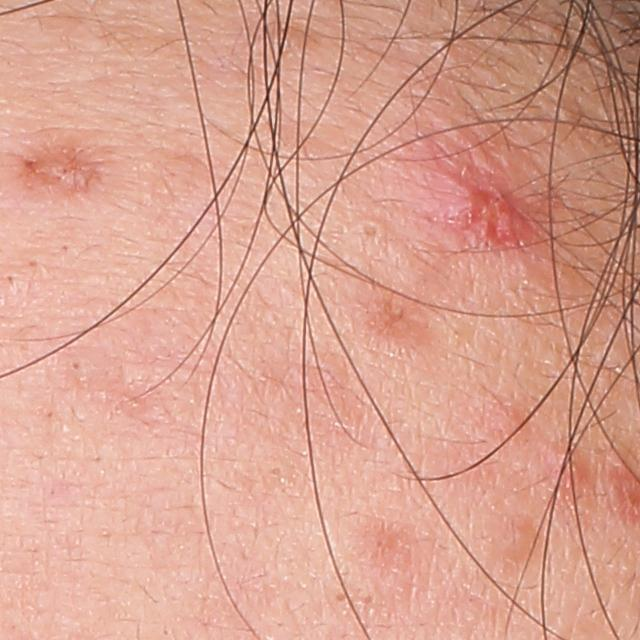comedo: (351, 216, 393, 247), (65, 354, 88, 377), (25, 255, 45, 274), (267, 462, 287, 480), (0, 271, 18, 288)
papule: (422, 176, 517, 242)
